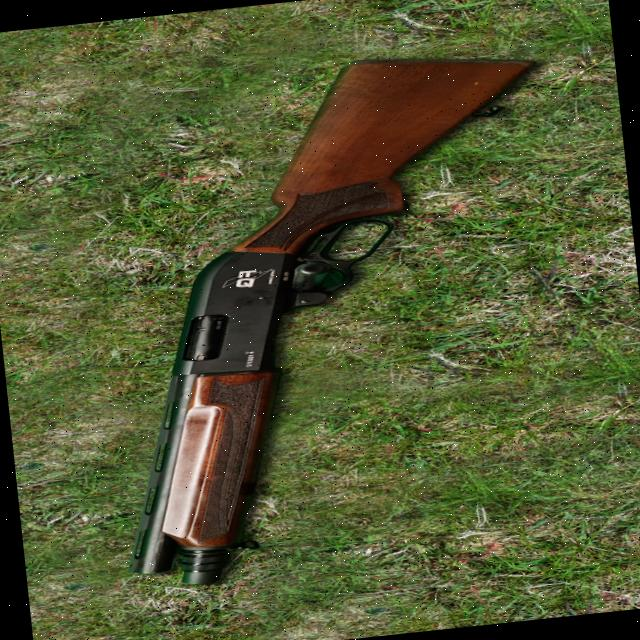Shotgun: (81, 44, 579, 590)
